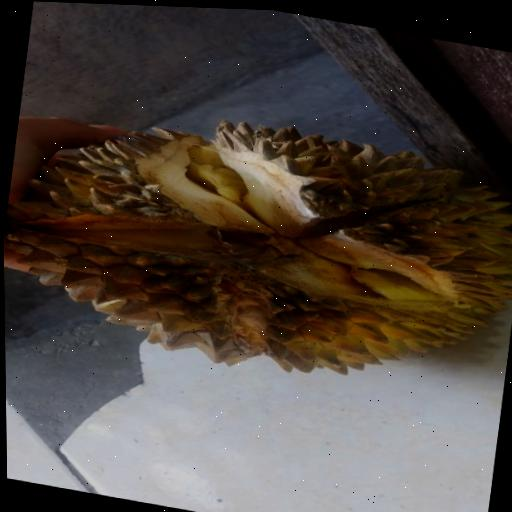rot: (0, 33, 512, 449)
